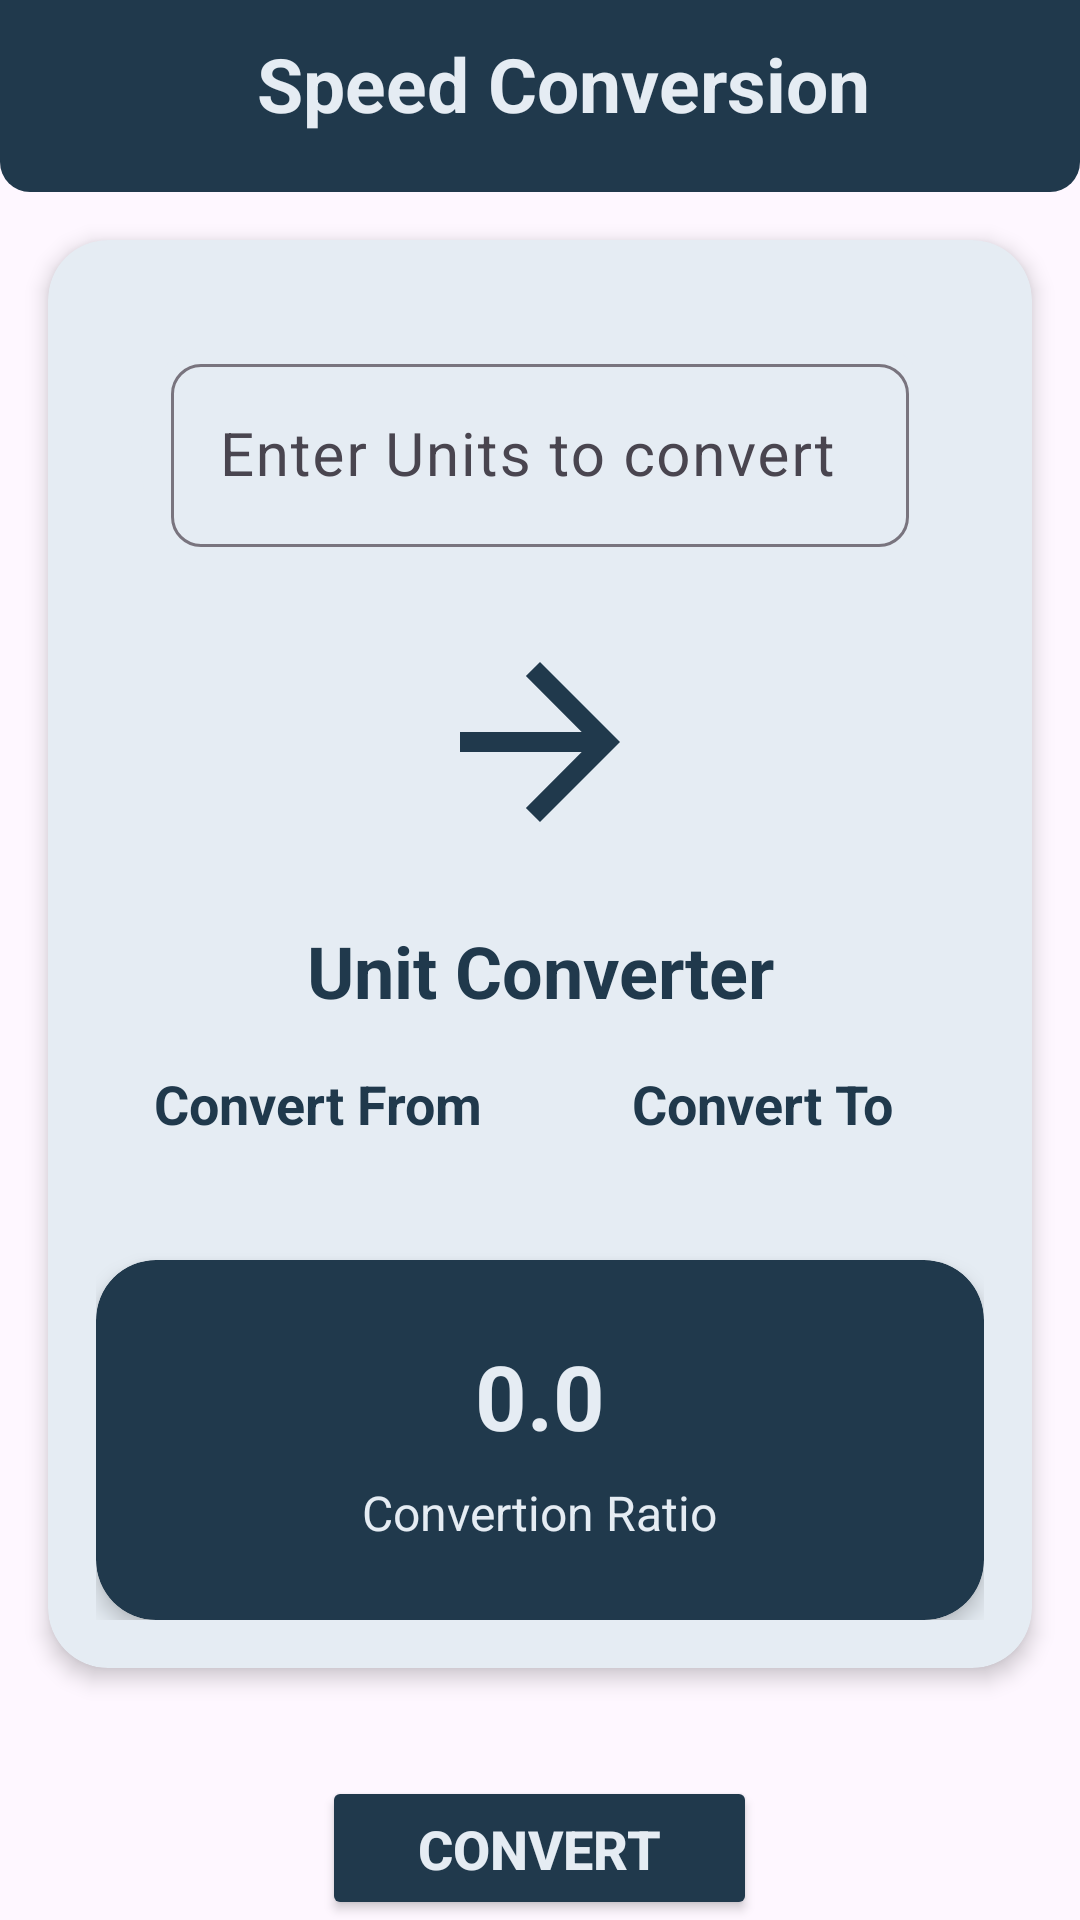

Screen size 1080×1920. Icon name, then its box in pixels as (x1, y1, x2, y2):
arrow forward: (460, 662, 620, 822)
